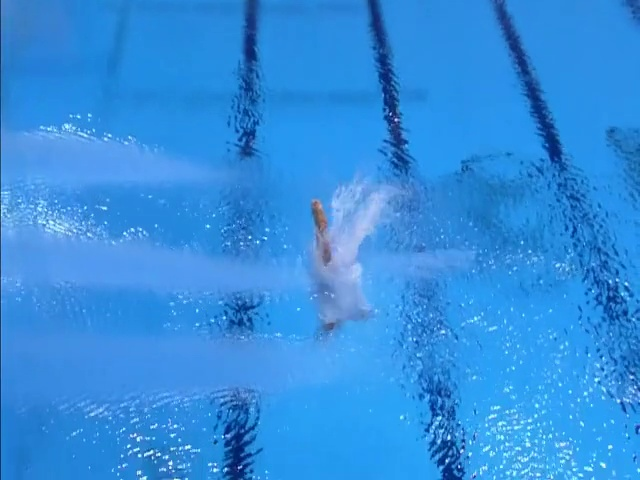diver: (311, 197, 332, 262)
splash: (333, 184, 390, 283)
